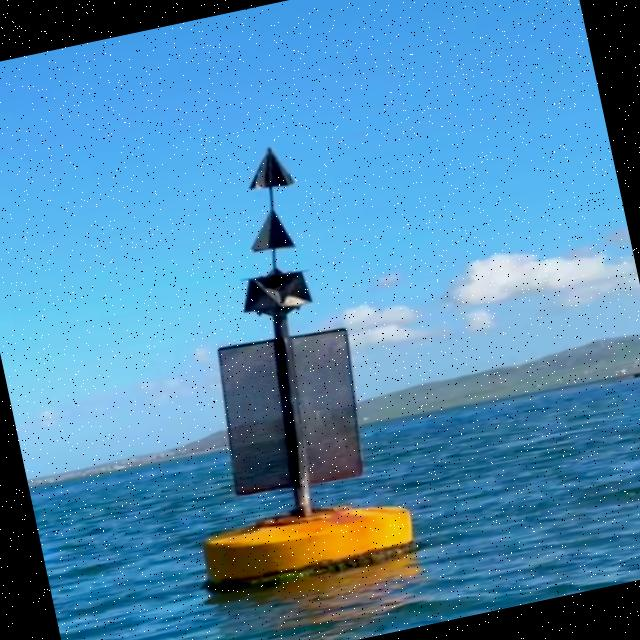marque: (130, 130, 427, 602)
